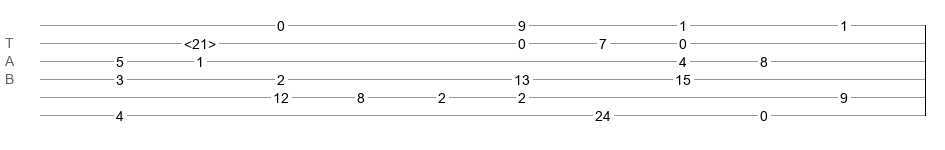0: (277, 18, 285, 28), (518, 36, 526, 46), (679, 36, 687, 46), (760, 108, 768, 118)
1: (196, 54, 204, 64), (679, 18, 687, 28), (840, 18, 848, 28)
12: (273, 90, 289, 100)
13: (514, 72, 530, 82)
15: (675, 72, 691, 82)
2: (277, 72, 285, 82), (438, 90, 446, 100), (518, 90, 526, 100)
24: (595, 108, 611, 118)
3: (116, 72, 124, 82)
4: (116, 108, 124, 118), (679, 54, 687, 64)
5: (116, 54, 124, 64)
7: (599, 36, 607, 46)
8: (357, 90, 365, 100), (760, 54, 768, 64)
9: (518, 18, 526, 28), (840, 90, 848, 100)
harmonic: (184, 36, 216, 46)
